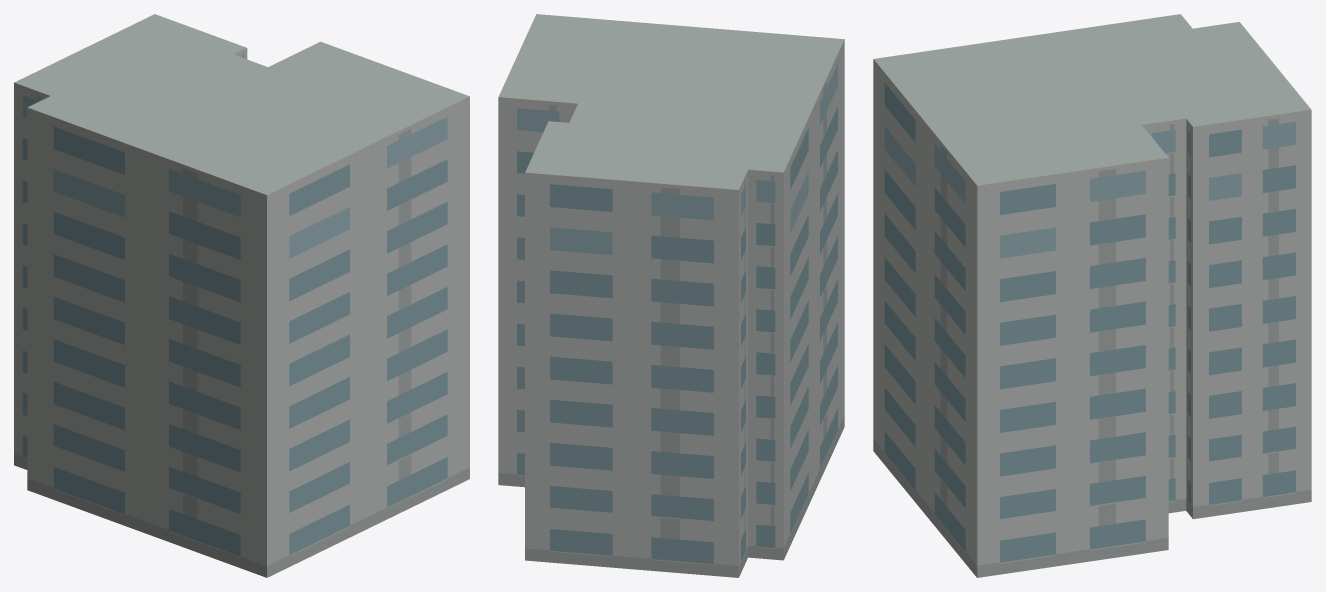
File: residential-4b10bd3b-0ab0-4ecb-8e08-8a175422a8e9.glb
3 views of the same model, side by side, from view 1: azimuth 30°, elevation 25°; view 2: azimuth 150°, elevation 25°; view 3: azimuth 270°, elevation 25° (orthographic). The views are drawn at different scales.
Visible parts, largest first — view 1: residential-4b10bd3b-0ab0-4ecb-8e08-8a175422a8e9.tmp; view 2: residential-4b10bd3b-0ab0-4ecb-8e08-8a175422a8e9.tmp; view 3: residential-4b10bd3b-0ab0-4ecb-8e08-8a175422a8e9.tmp.
Boxes of the visible parts, x1,y1,x2,y2 form: residential-4b10bd3b-0ab0-4ecb-8e08-8a175422a8e9.tmp: (14, 14, 469, 577); residential-4b10bd3b-0ab0-4ecb-8e08-8a175422a8e9.tmp: (498, 14, 844, 577); residential-4b10bd3b-0ab0-4ecb-8e08-8a175422a8e9.tmp: (873, 14, 1311, 577).
Bounding box in the file's own units: 24.42 × 26 × 26.33.
